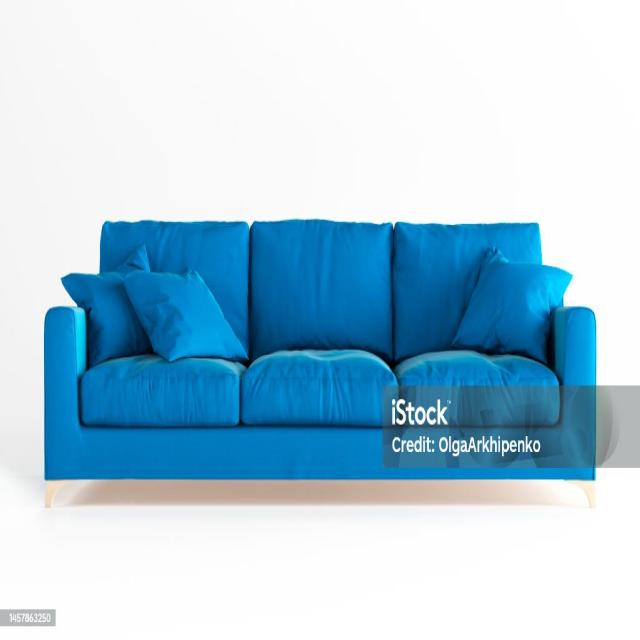back_cushion: (100, 220, 541, 360)
base: (81, 425, 594, 479)
left_arm: (549, 307, 596, 476), (549, 307, 596, 465)
right_arm: (44, 307, 86, 478)
seat_cushion: (81, 350, 559, 427)
stallion-sofa: (0, 0, 639, 639)
